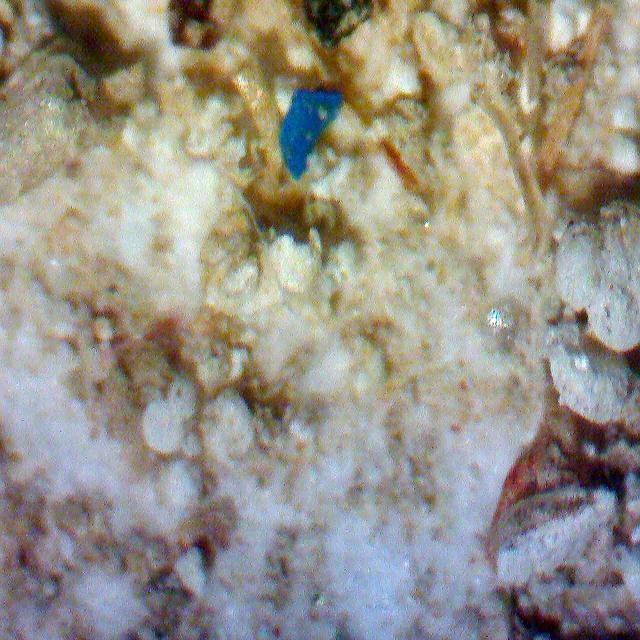microplastic: (279, 90, 343, 183)
